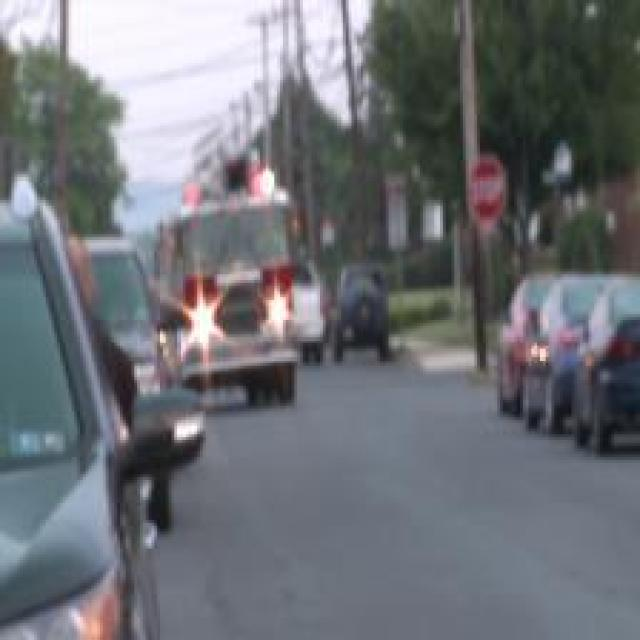other: (174, 272, 289, 333), (152, 172, 302, 200)
